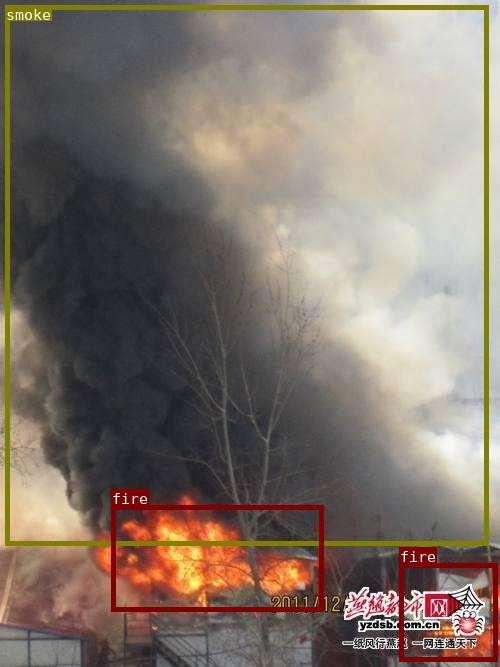fire: (110, 505, 322, 611), (399, 563, 497, 661)
smoke: (4, 5, 488, 544)
